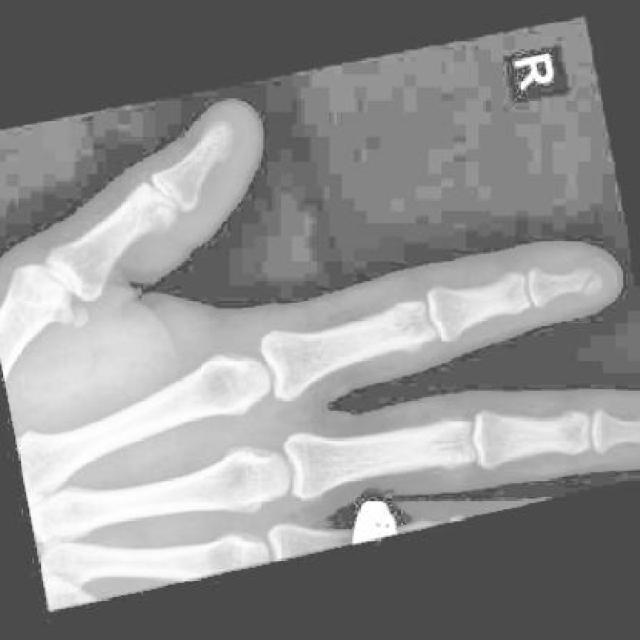Fracture: (569, 257, 611, 297)
